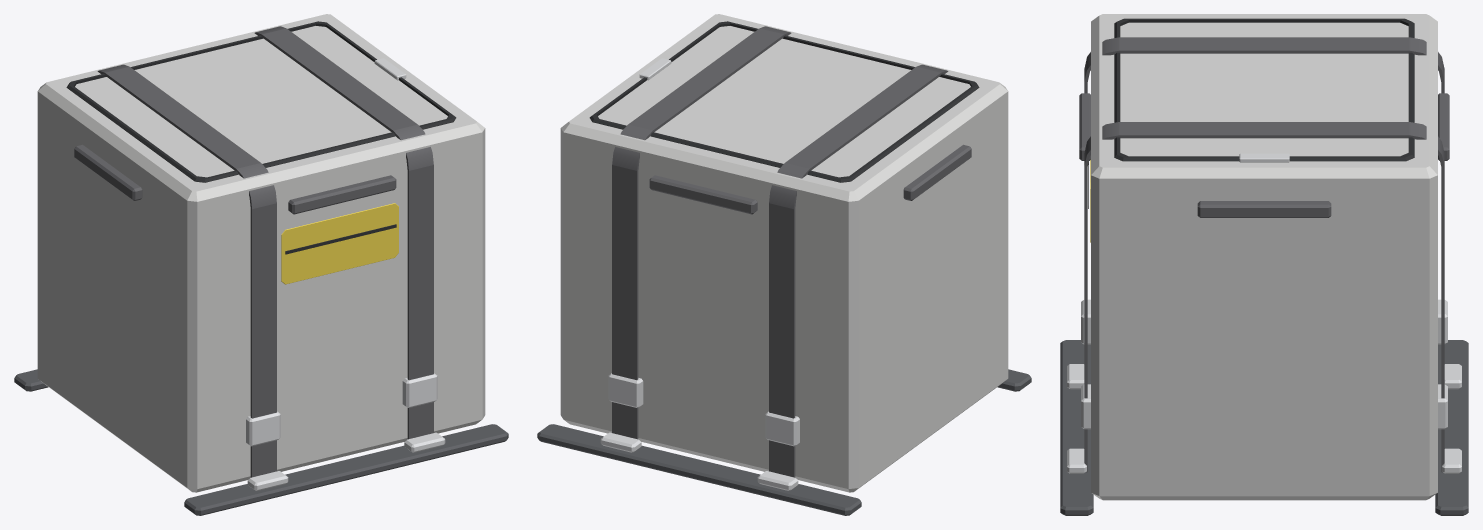
The model's file is eqm20_cargo_bag_strapped.glb.
The picture shows the model from 3 angles, left to right: view 1: azimuth 30°, elevation 25°; view 2: azimuth 150°, elevation 25°; view 3: azimuth 270°, elevation 25°; orthographic projection. The views are drawn at different scales.
Visible parts, largest first — view 1: eqm20_bag, eqm20_straps, eqm20_tie_down_rails, eqm20_handles; view 2: eqm20_bag, eqm20_straps, eqm20_tie_down_rails, eqm20_handles; view 3: eqm20_bag, eqm20_straps, eqm20_tie_down_rails, eqm20_handles.
Boxes of the visible parts, bbox=[...] form: eqm20_bag: bbox=[37, 14, 485, 492]; eqm20_straps: bbox=[97, 26, 445, 490]; eqm20_tie_down_rails: bbox=[14, 369, 508, 515]; eqm20_handles: bbox=[74, 144, 396, 214]; eqm20_bag: bbox=[560, 14, 1008, 492]; eqm20_straps: bbox=[600, 26, 948, 490]; eqm20_tie_down_rails: bbox=[537, 369, 1031, 515]; eqm20_handles: bbox=[649, 144, 971, 214]; eqm20_bag: bbox=[1088, 14, 1437, 500]; eqm20_straps: bbox=[1067, 37, 1461, 473]; eqm20_tie_down_rails: bbox=[1060, 340, 1468, 515]; eqm20_handles: bbox=[1079, 93, 1449, 217].
Size of the model in its own units: 0.484 by 0.458 by 0.49.
